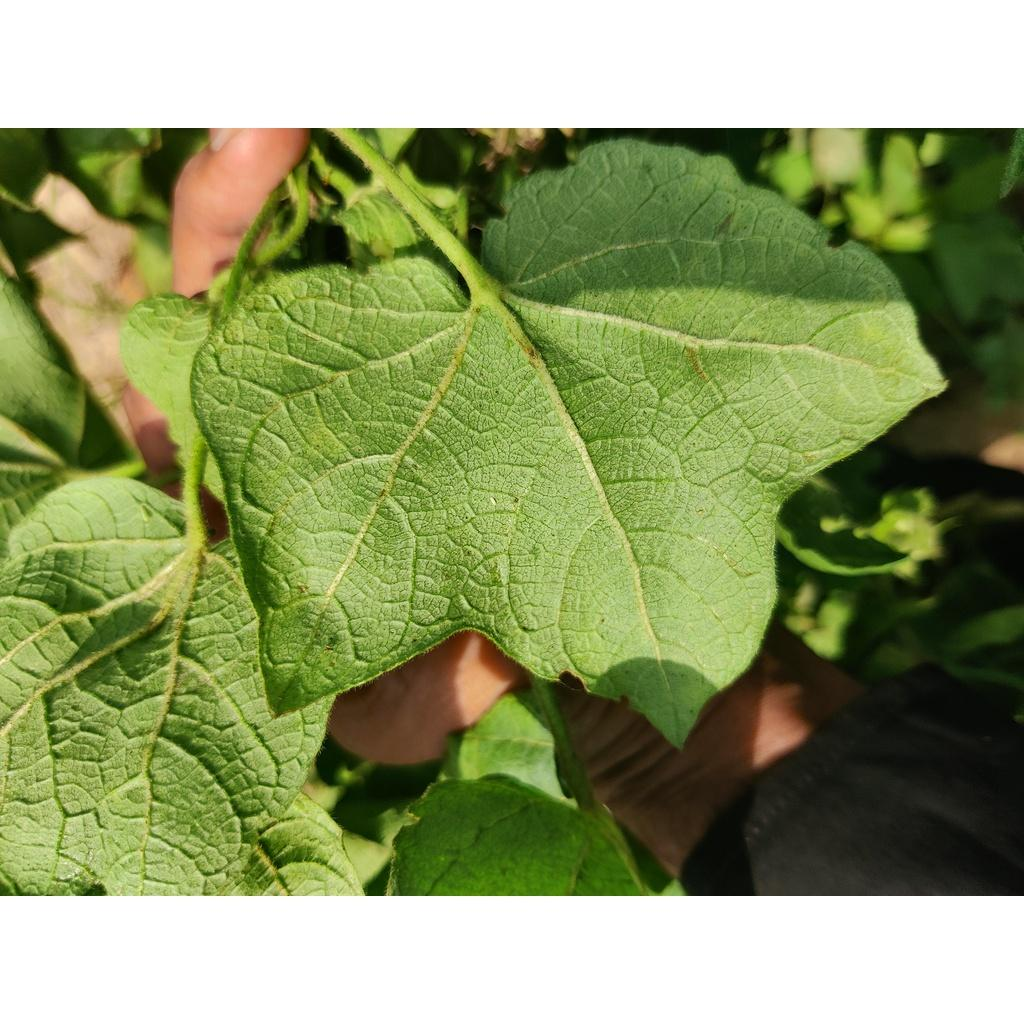adult: (489, 496, 497, 506), (156, 411, 156, 412)
